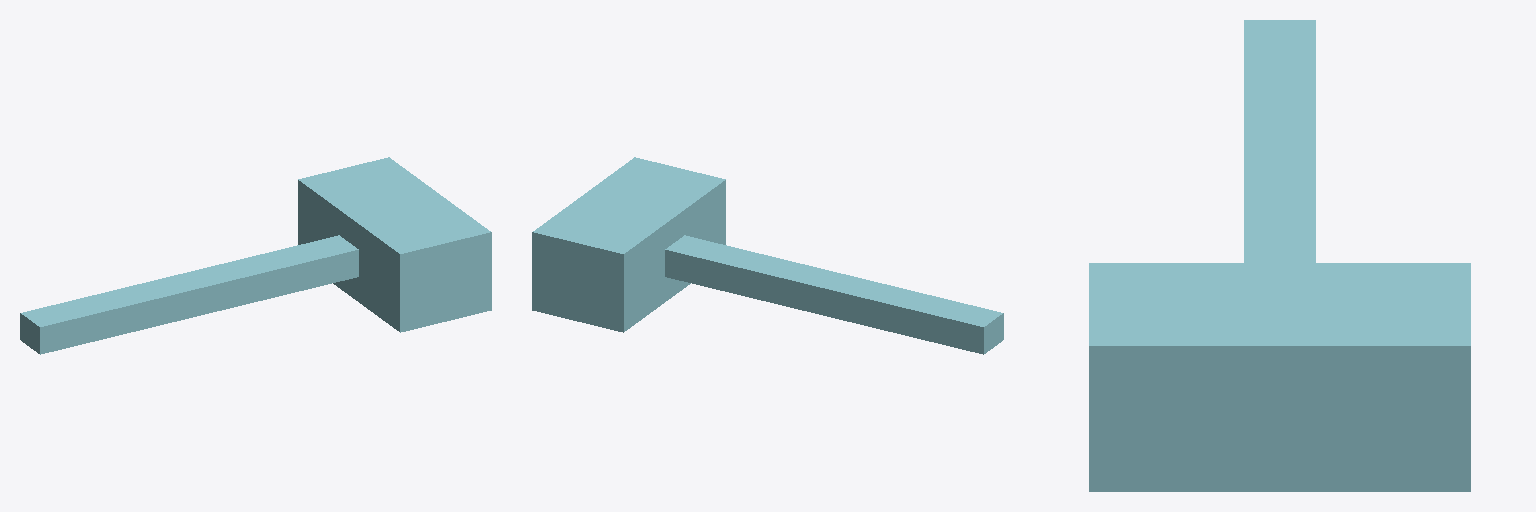
The robot description file, URDF, robot "cuboid_hammer_v016":
<?xml version="1.0"?>
<robot name="cuboid_hammer_v016">

  <link name="cuboid_hammer_v016">
    <!-- Handle -->
    <visual>
      <origin xyz="0 0 0" rpy="0 0 0"/>
      <geometry>
        <box size="0.20427189158300857 0.02175299838632202 0.01677008853180773"/>
      </geometry>
      <material name="material">
        <color rgba="0.639 0.847 0.882 1.0"/>
      </material>
    </visual>
    <collision>
      <origin xyz="0 0 0" rpy="0 0 0"/>
      <geometry>
        <box size="0.20427189158300857 0.02175299838632202 0.01677008853180773"/>
      </geometry>
    </collision>

    <!-- Head -->
    <visual>
      <origin xyz="0.13137389908249458 0 0" rpy="0 0 0"/>
      <geometry>
        <box size="0.05847590658198057 0.11360064834953248 0.04798828535242998"/>
      </geometry>
      <material name="material">
        <color rgba="0.639 0.847 0.882 1.0"/>
      </material>
    </visual>
    <collision>
      <origin xyz="0.13137389908249458 0 0" rpy="0 0 0"/>
      <geometry>
        <box size="0.05847590658198057 0.11360064834953248 0.04798828535242998"/>
      </geometry>
    </collision>

    <inertial>
      <density value="400.0"/>
    </inertial>
  </link>

</robot>

--- Facts derived from the render (not from the file) ---
Views: 3 orthographic renders of the robot side by side, from view 1: azimuth 30°, elevation 25°; view 2: azimuth 150°, elevation 25°; view 3: azimuth 270°, elevation 25°.
Model cuboid_hammer_v016 with 1 links and 0 joints (none), rooted at cuboid_hammer_v016, posed every joint at zero.
Links seen in each view (by area): view 1: cuboid_hammer_v016; view 2: cuboid_hammer_v016; view 3: cuboid_hammer_v016.
Link boxes in pixels (bbox=[...]): cuboid_hammer_v016: bbox=[20, 157, 491, 354]; cuboid_hammer_v016: bbox=[532, 157, 1003, 354]; cuboid_hammer_v016: bbox=[1089, 20, 1470, 491].
Size in the robot's own frame: 0.2627 by 0.1136 by 0.048 metres.
Geometry: primitives only (box / cylinder / sphere), no mesh files.
